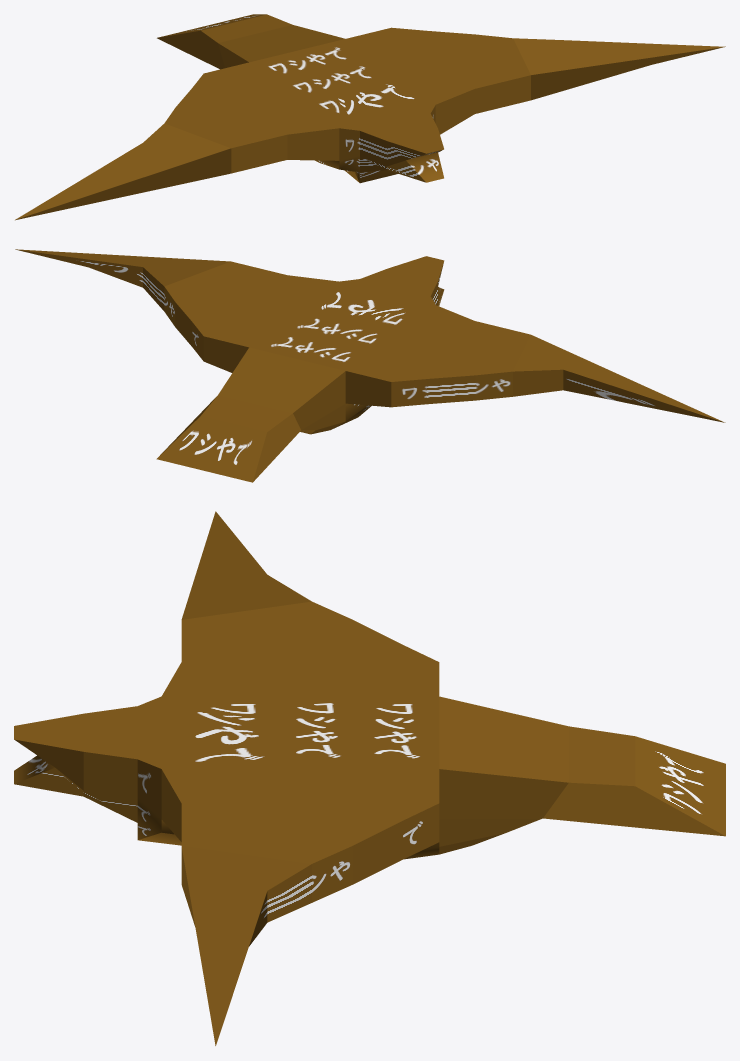
Rendered from hawkshadow.FBX.
The picture shows the model from 3 angles, top to bottom: view 1: azimuth 30°, elevation 25°; view 2: azimuth 150°, elevation 25°; view 3: azimuth 270°, elevation 25°; orthographic projection. The views are drawn at different scales.
Visible parts, largest first — view 1: Box001; view 2: Box001; view 3: Box001.
Part boxes in pixels (left/top/right/bottom): Box001: left=15, top=14, right=725, bottom=220; Box001: left=15, top=249, right=725, bottom=482; Box001: left=14, top=511, right=725, bottom=1045.
Bounding box in the file's own units: 295 × 166 × 30.
1 material, 1 textured.
